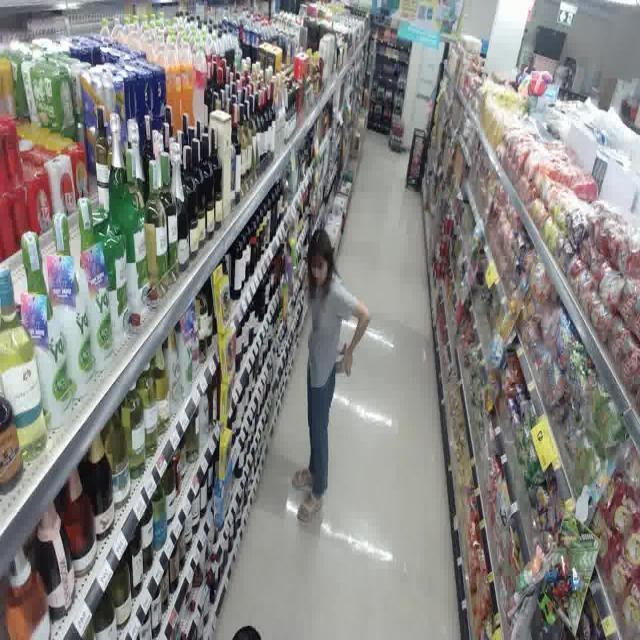shoplifting: (280, 194, 374, 546)
